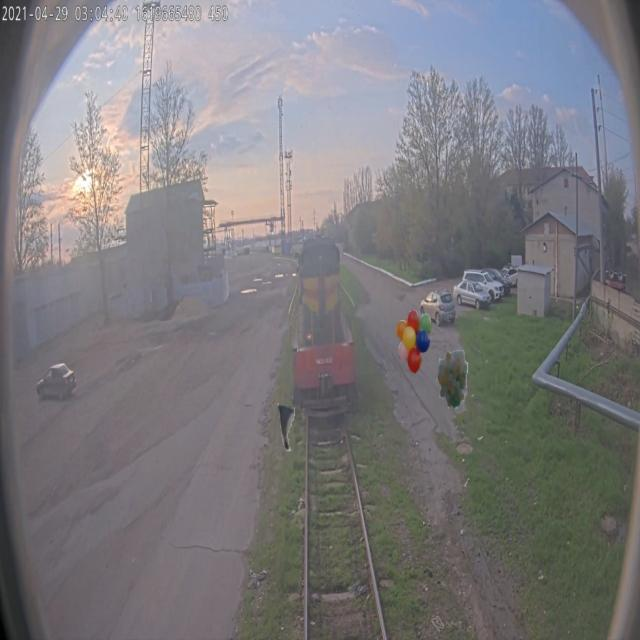balloon: (396, 310, 432, 374), (436, 345, 468, 409)
floating object: (276, 388, 295, 452)
